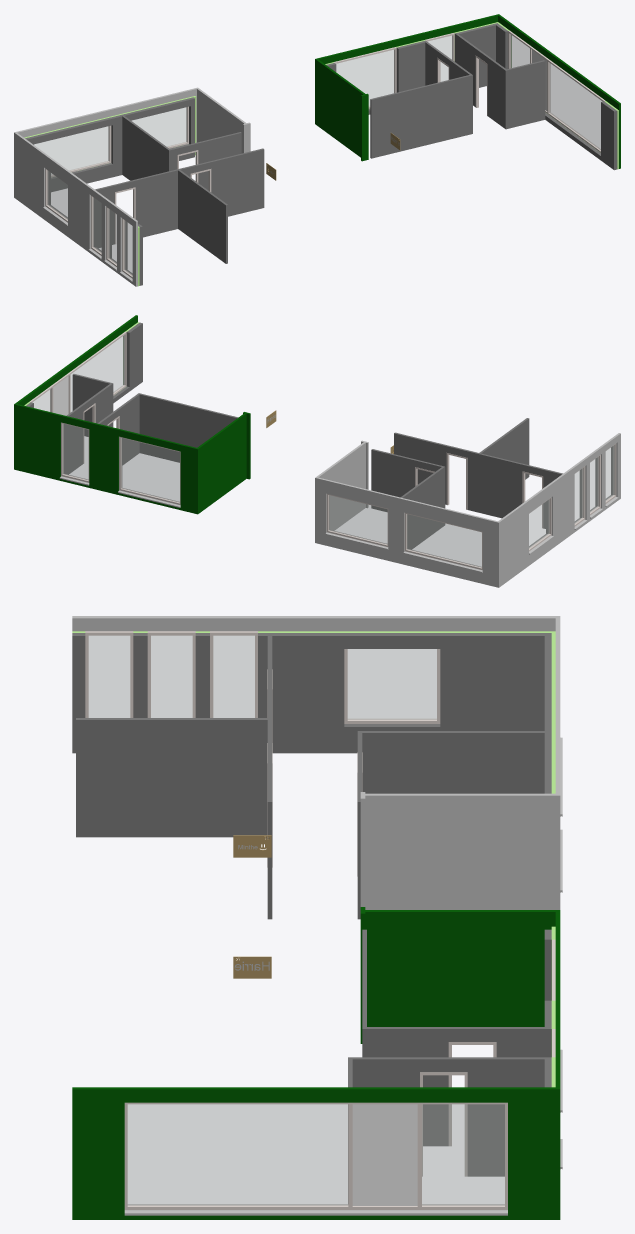
3 renders of one model, top to bottom at view 1: azimuth 30°, elevation 25°; view 2: azimuth 150°, elevation 25°; view 3: azimuth 270°, elevation 25°, orthographic. The views are drawn at different scales.
Visible parts, largest first — view 1: Walls, System Panel, Rectangular Mullion; view 2: Walls, System Panel, Rectangular Mullion, NLRS_41_GM_WPB_waterslag RD50-90x160_vebo_ISR; view 3: Walls, System Panel, Rectangular Mullion, NLRS_41_GM_WPB_waterslag RD50-90x160_vebo_ISR, Walls.001.
Boxes of the visible parts, <box> form: Walls: <box>14,14,620,286</box>; System Panel: <box>34,34,601,275</box>; Rectangular Mullion: <box>45,30,605,278</box>; Walls: <box>14,315,620,587</box>; System Panel: <box>33,335,614,567</box>; Rectangular Mullion: <box>29,331,616,569</box>; NLRS_41_GM_WPB_waterslag RD50-90x160_vebo_ISR: <box>59,476,618,572</box>; Walls: <box>72,616,560,1219</box>; System Panel: <box>89,636,504,1205</box>; Rectangular Mullion: <box>85,631,555,1209</box>; NLRS_41_GM_WPB_waterslag RD50-90x160_vebo_ISR: <box>124,737,562,1215</box>; Walls.001: <box>233,835,271,857</box>.
Bounding box in the file's own units: 23.46 × 3 × 10.23.
